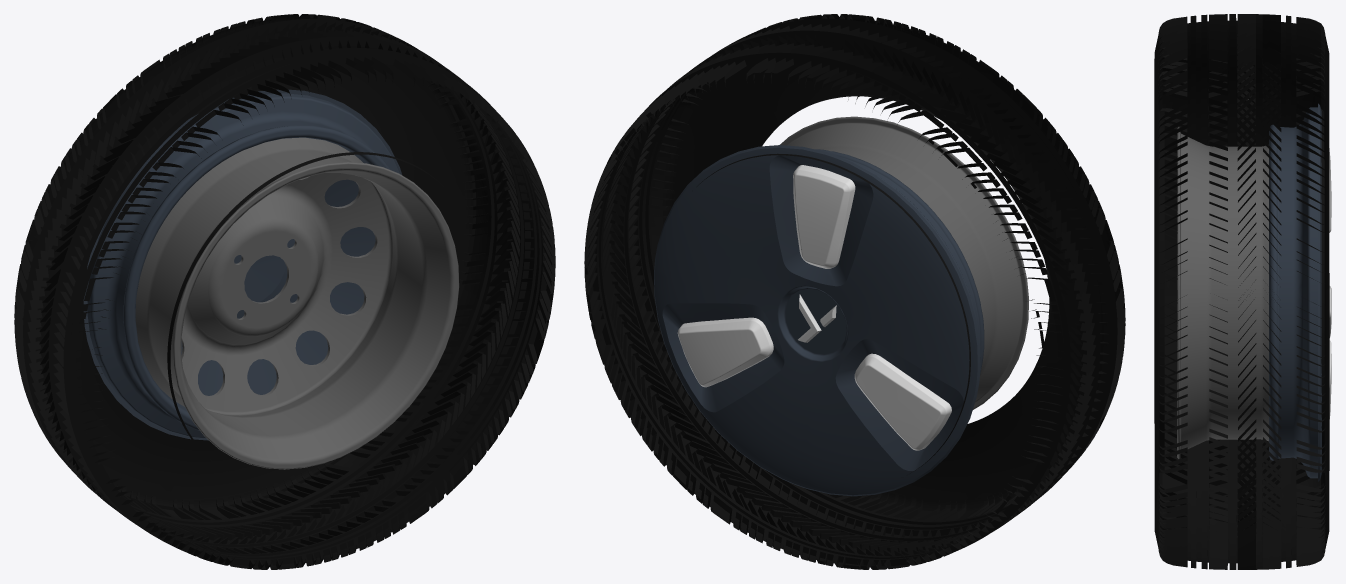
The model's file is 241126_CAB_Tires_FL.gltf.
3 views of the same model, side by side, from view 1: azimuth 30°, elevation 25°; view 2: azimuth 150°, elevation 25°; view 3: azimuth 270°, elevation 25° (orthographic).
Visible parts, largest first — view 1: VR; view 2: VR; view 3: VR.
Part boxes in pixels (x1,y1,x2,y2): VR: (14, 14, 555, 569); VR: (584, 14, 1125, 569); VR: (1154, 14, 1331, 569).
Bounding box in the file's own units: 0.6353 × 0.6353 × 0.2025.
